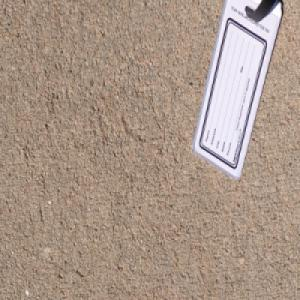LuggageTag: (190, 0, 285, 186)
